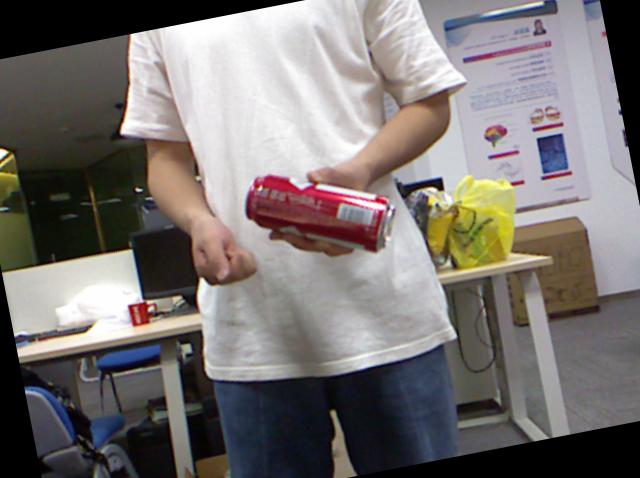cardboard paper: (513, 216, 598, 319)
metal: (245, 173, 394, 250)
